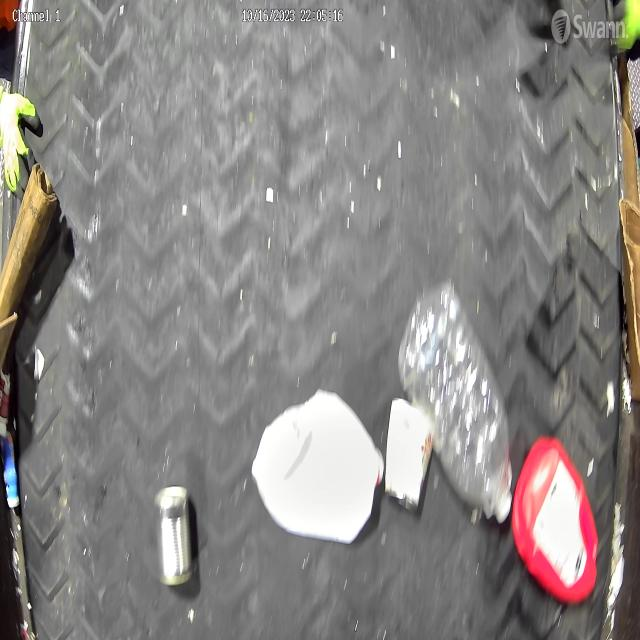can: (384, 397, 434, 512), (156, 486, 192, 586)
milk_jug: (252, 388, 384, 544)
non_white_jug: (512, 437, 598, 602)
plastic_bottle: (398, 280, 513, 523)
